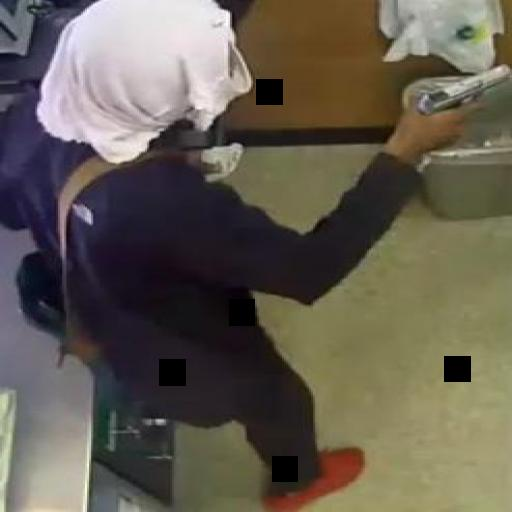Handgun: (412, 60, 508, 139)
